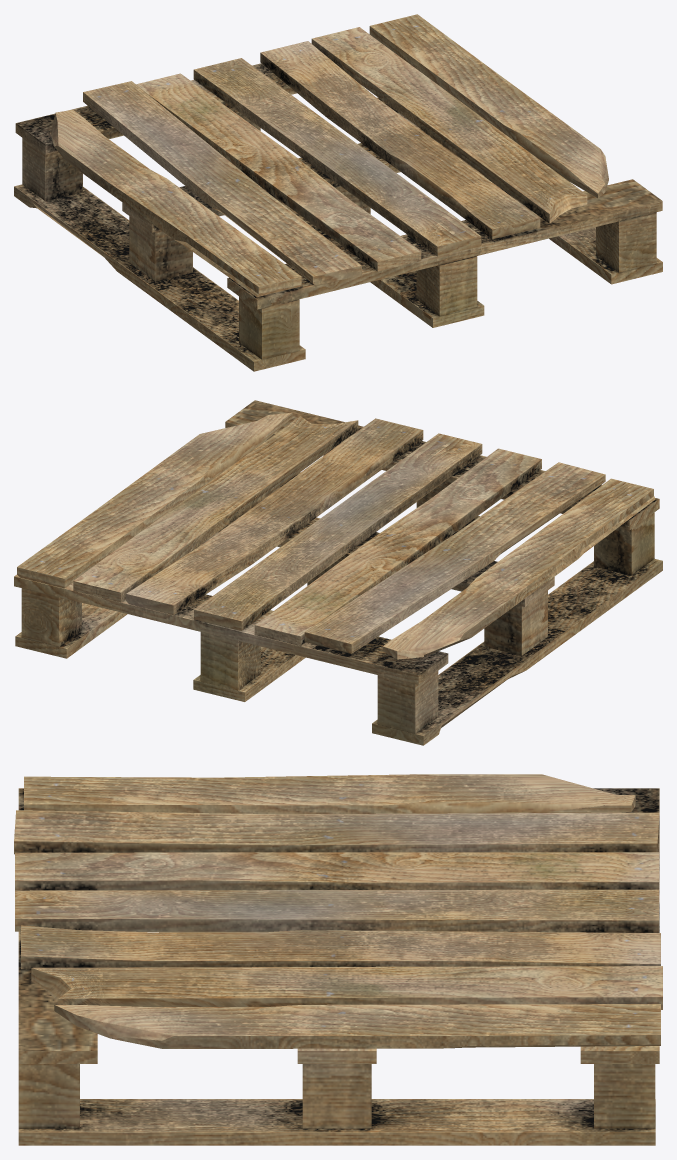
File: pallet_3.fbx
3 renders of one model, top to bottom at view 1: azimuth 30°, elevation 25°; view 2: azimuth 150°, elevation 25°; view 3: azimuth 270°, elevation 25°, orthographic. The views are drawn at different scales.
Parts seen in each view (by area): view 1: Pallet_pt.003; view 2: Pallet_pt.003; view 3: Pallet_pt.003.
Boxes of the visible parts, x1,y1,x2,y2 form: Pallet_pt.003: [14, 14, 662, 371]; Pallet_pt.003: [14, 400, 662, 745]; Pallet_pt.003: [14, 774, 662, 1145].
Bounding box in the file's own units: 99.83 × 19.97 × 103.
